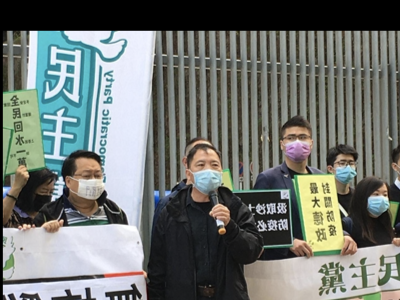with_mask: (189, 157, 222, 195), (70, 165, 102, 199), (282, 129, 310, 162), (332, 156, 356, 183), (31, 184, 54, 211), (367, 188, 387, 217)
